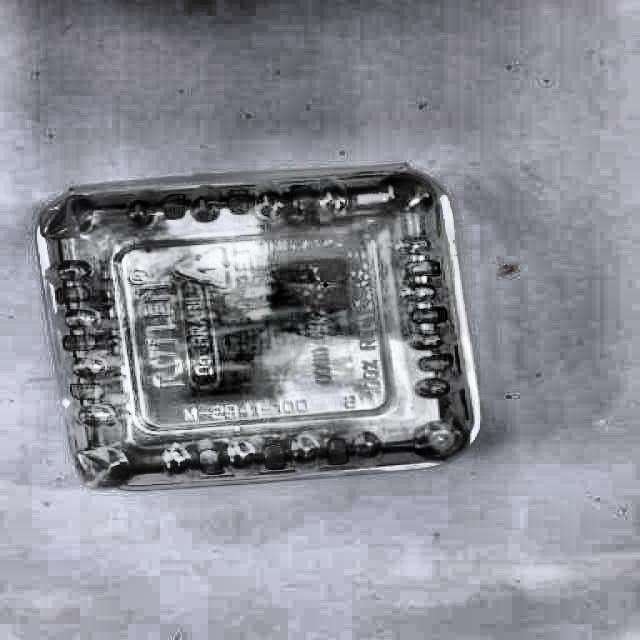plastic: (38, 165, 480, 488)
